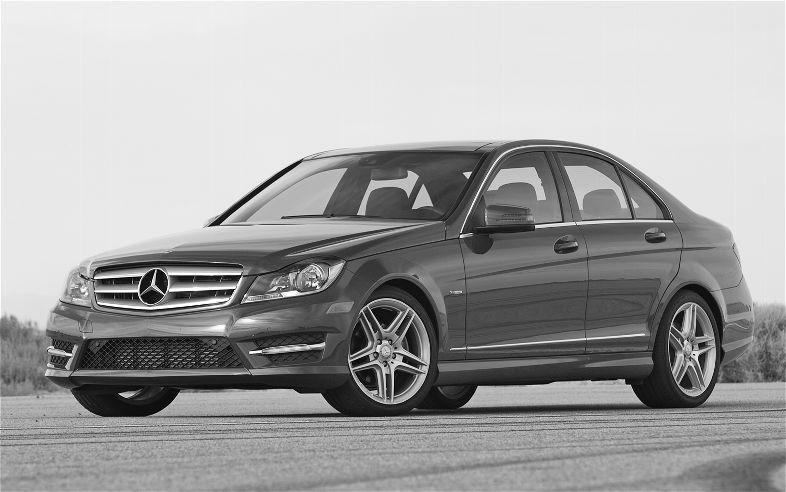car: (43, 135, 756, 420)
